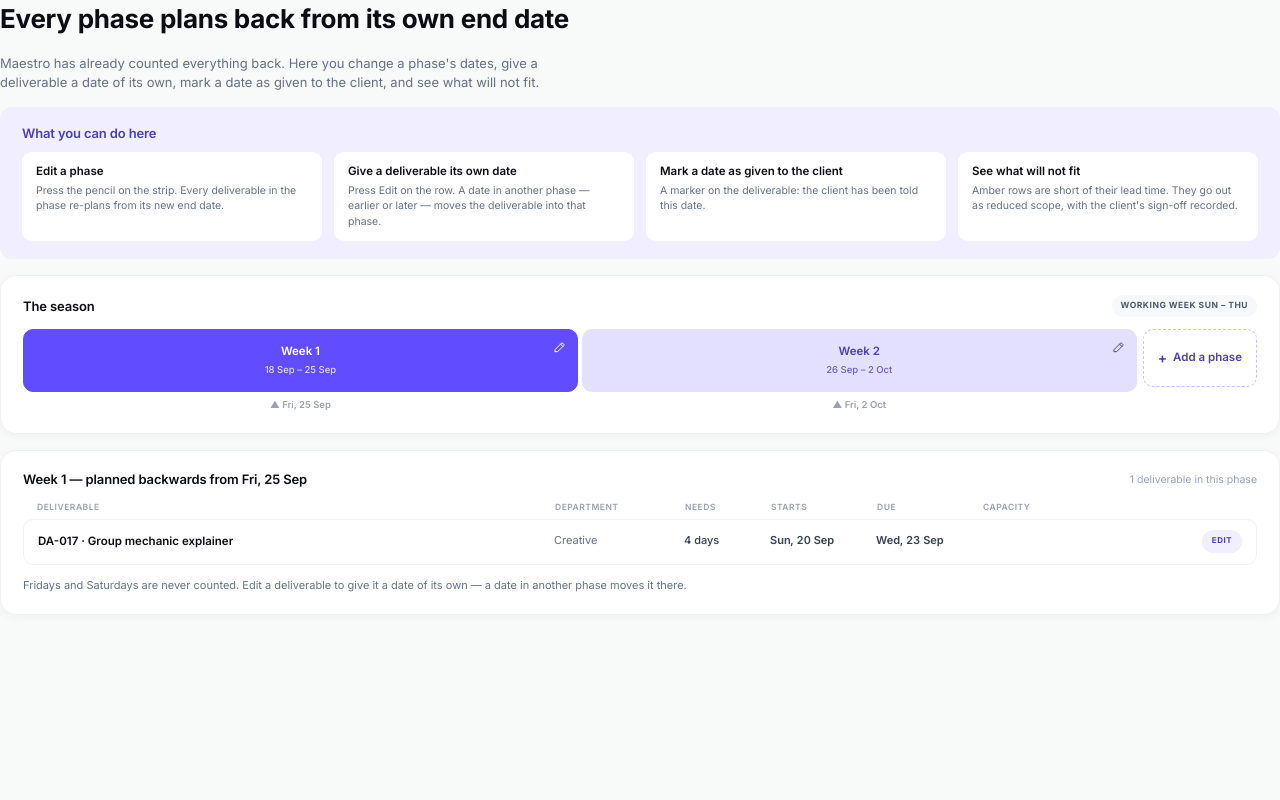
TimingStepContainer (CB-v3-04, wired up) › refuses a phase that would start inside the one before, or end past the one after — named
Click the button with test id "timing-phase-edit-p2": (1119, 347) [1106, 334, 1132, 360]
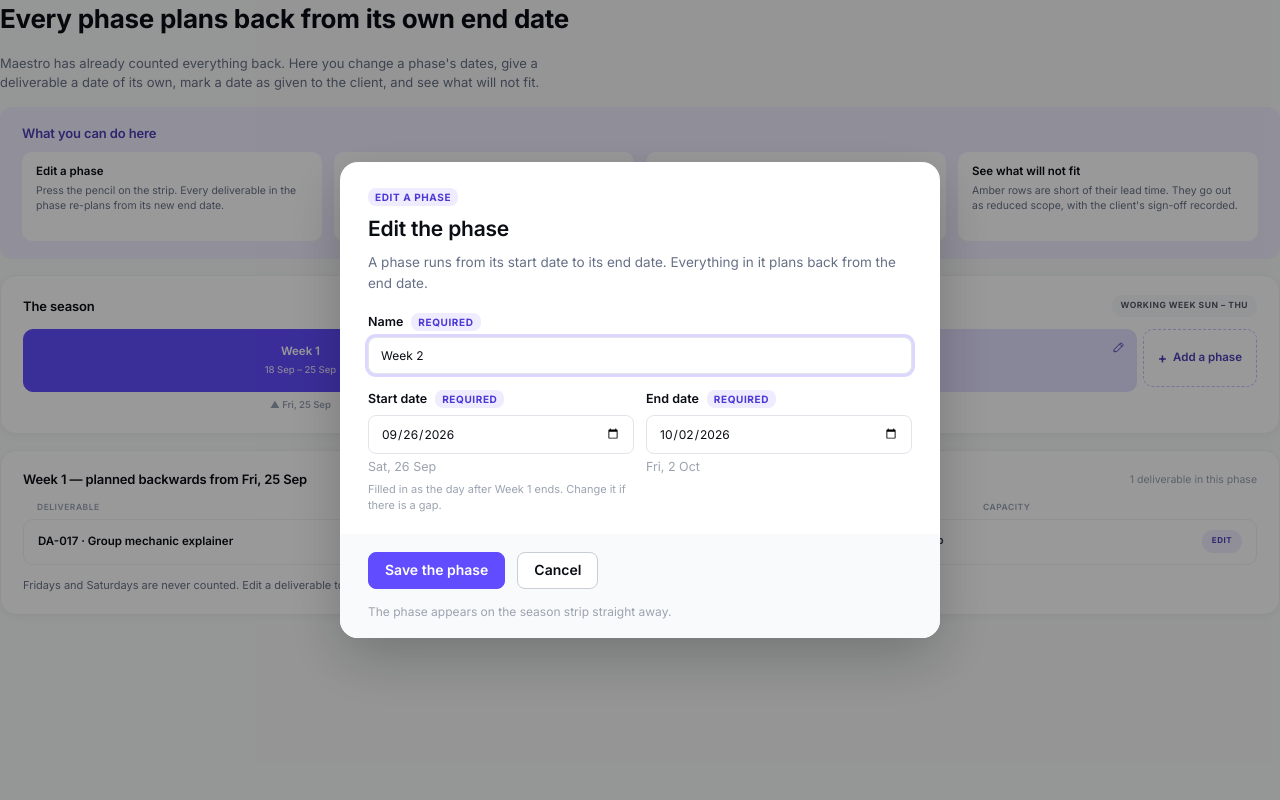
In the date field with test id "timing-phase-dialog-starts": (501, 434) [368, 414, 634, 454], type "2026-09-24"
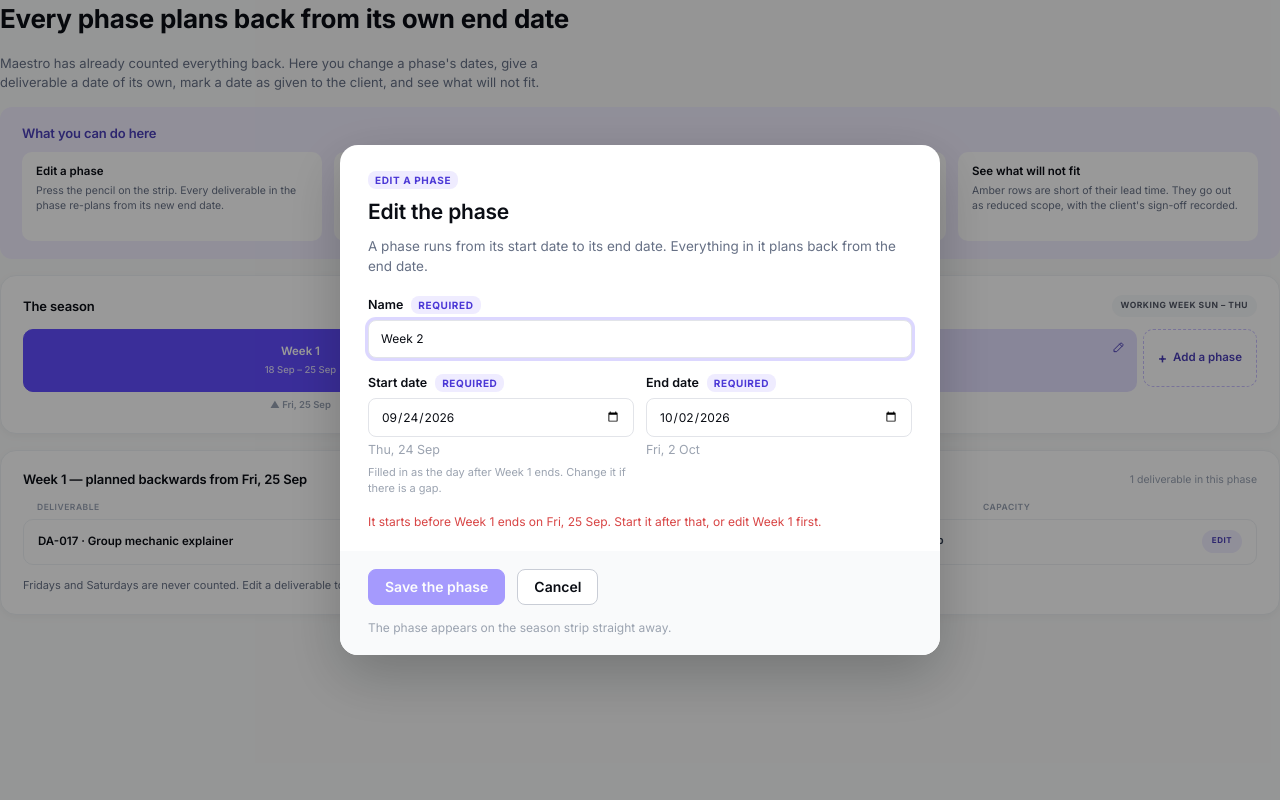
Expected: the message with test id "timing-phase-dialog-clash" shows "It starts before Week 1 ends on Fri, 25 Sep.", [368, 514, 822, 529]
Expected: the button with test id "timing-phase-dialog-submit" is disabled, [368, 569, 505, 605]
Click the button with test id "timing-phase-dialog-cancel": (558, 587) [517, 569, 598, 605]
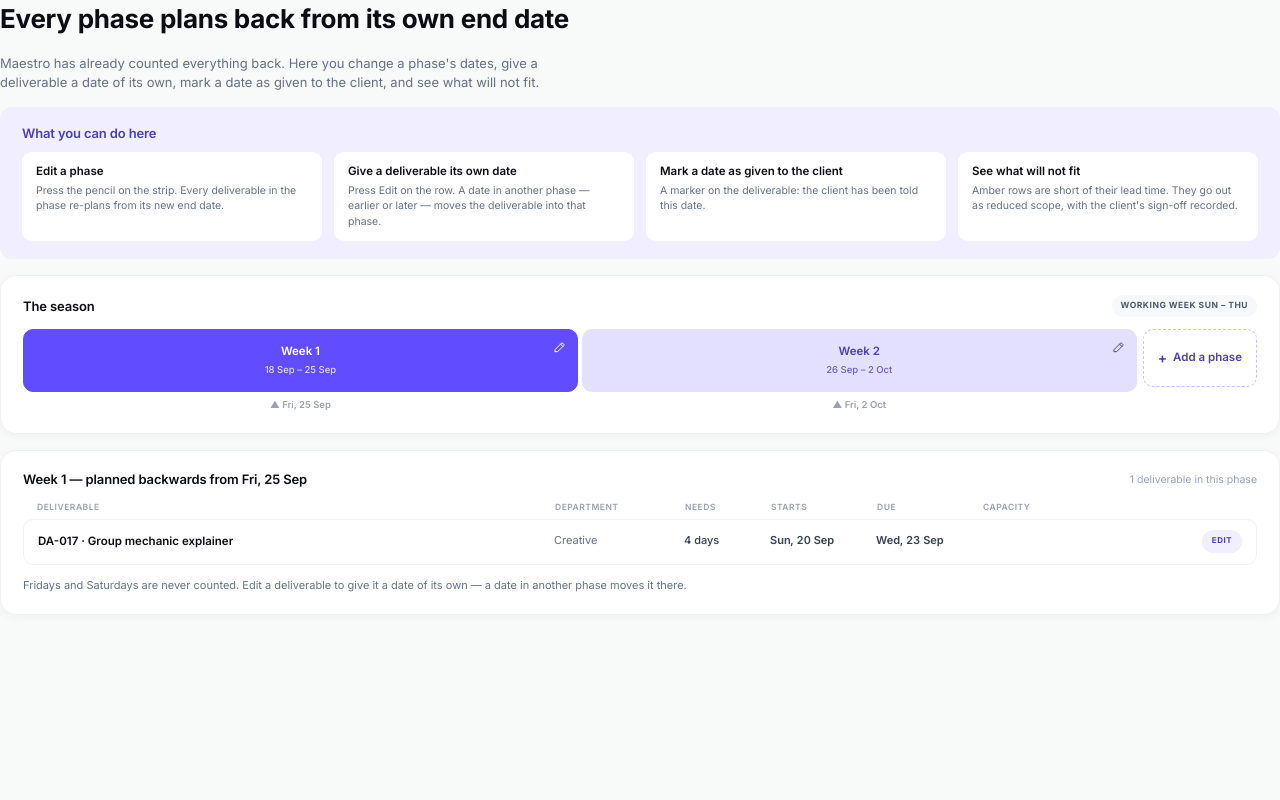
Click the button with test id "timing-phase-edit-p1": (560, 347) [547, 334, 573, 360]
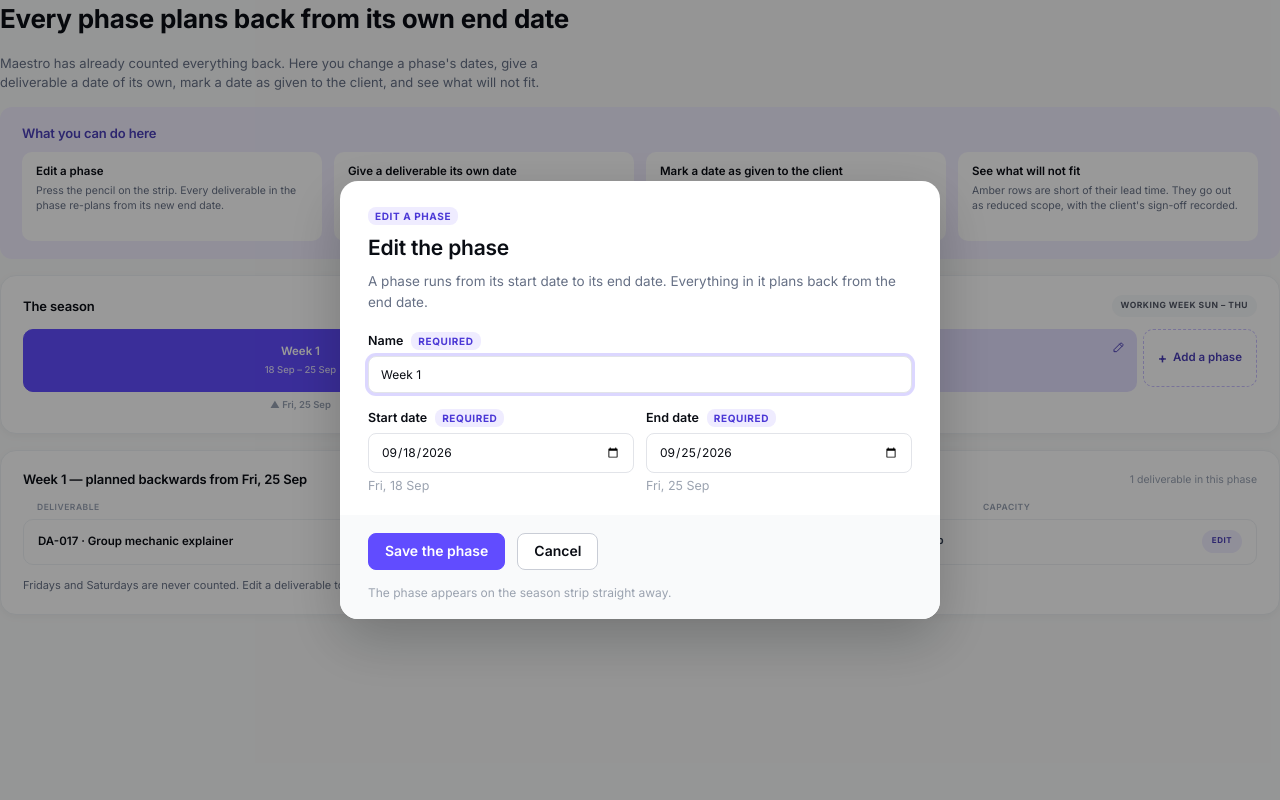
In the date field with test id "timing-phase-dialog-date": (779, 453) [646, 433, 912, 473], type "2026-10-03"
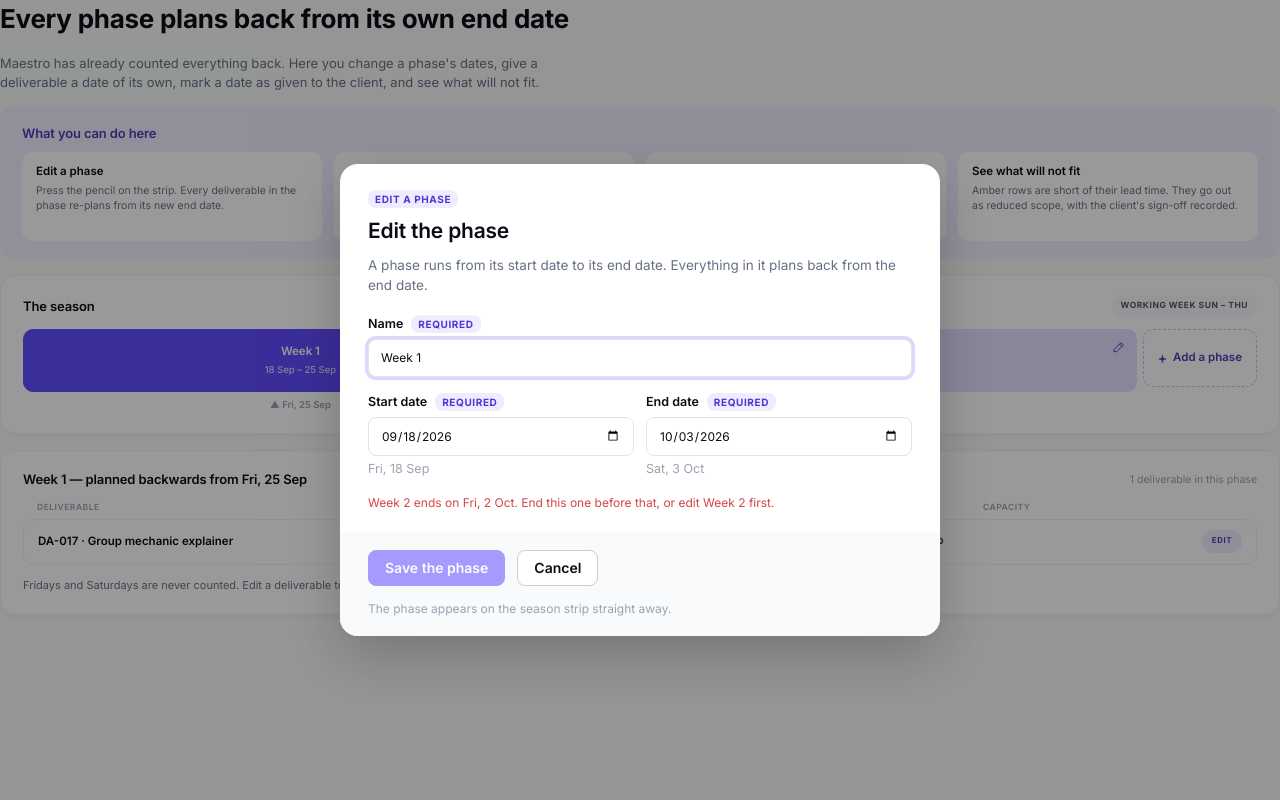
Expected: the message with test id "timing-phase-dialog-clash" shows "Week 2 ends on Fri, 2 Oct. End this one before that", [368, 495, 774, 510]
Expected: the button with test id "timing-phase-dialog-submit" is disabled, [368, 550, 505, 586]
